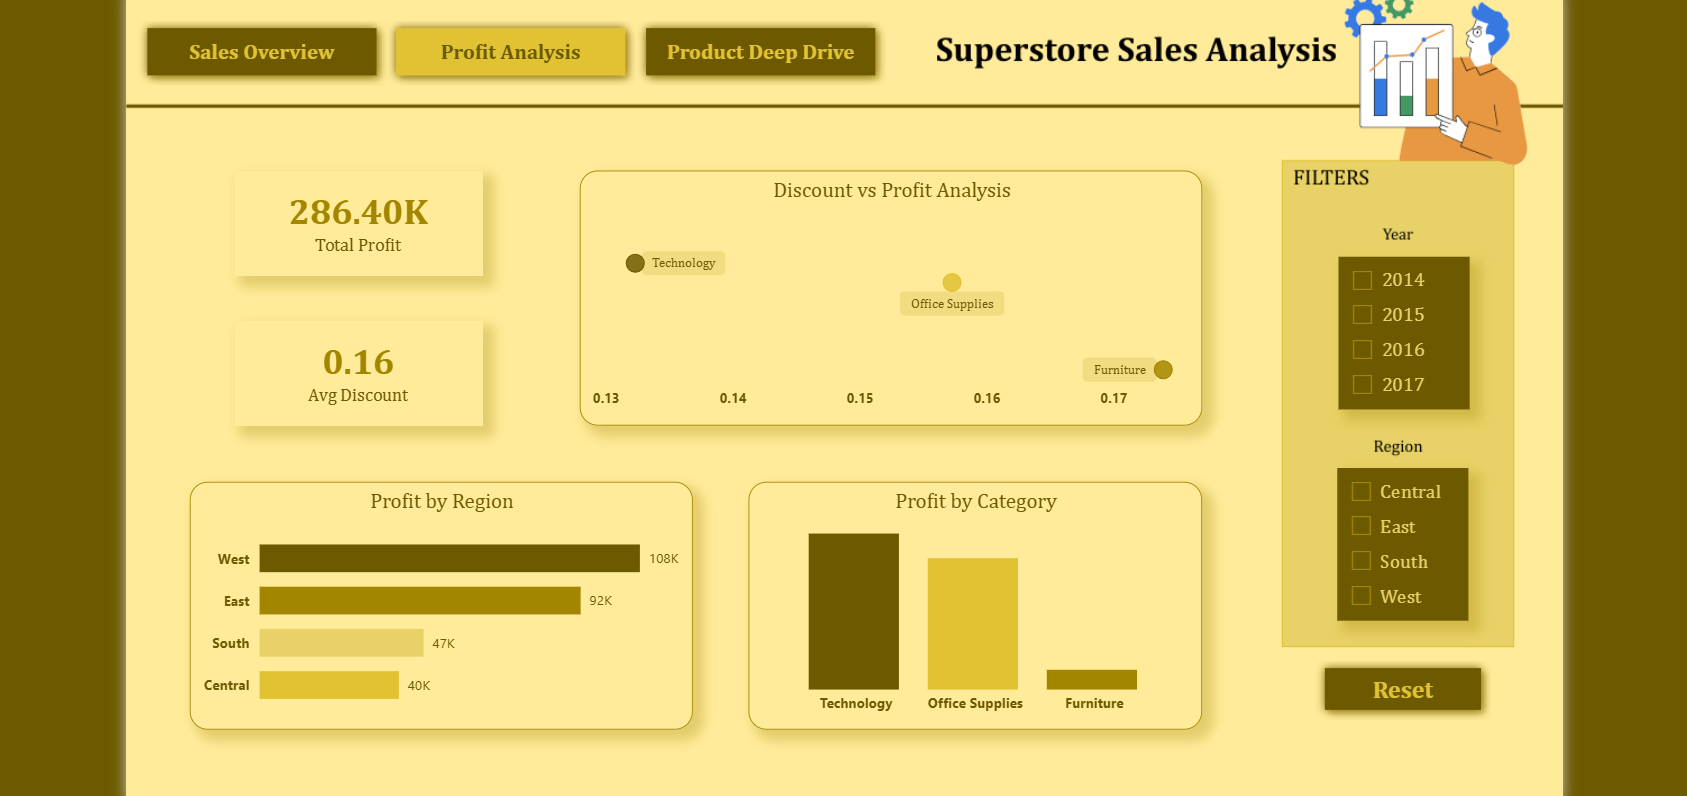

This screenshot's page, from the dashboard's own definition file:
{"tool":"powerbi","page":{"name":"Profit Analysis","canvas":[1280,720],"ordinal":1},"visuals":[{"type":"cardVisual","fields":{"Data":["Sum(superstore_clean.Profit)"]},"box":[96.9,158.3,220.9,93.3],"z":0},{"type":"clusteredColumnChart","title":"Profit by Category","fields":{"Category":["superstore_clean.Category"],"Y":["Sum(superstore_clean.Profit)"]},"box":[554.6,435.6,403.7,220.9],"z":1000},{"type":"clusteredBarChart","title":"Profit by Region","fields":{"Y":["Sum(superstore_clean.Profit)"],"Category":["superstore_clean.Region"]},"box":[56.4,435.6,447.9,220.9],"z":2000},{"type":"scatterChart","title":"Discount vs Profit Analysis","fields":{"Y":["Sum(superstore_clean.Profit)"],"X":["Avg(superstore_clean.Discount)"],"Category":["superstore_clean.Category"]},"box":[403.7,158.3,554.6,227],"z":3000},{"type":"cardVisual","fields":{"Data":["Avg(superstore_clean.Discount)"]},"box":[96.9,292,220.9,93.3],"z":4000},{"type":"actionButton","box":[9.8,22.1,222.1,60.1],"z":5000},{"type":"actionButton","box":[231.9,22.1,222.1,60.1],"z":6000},{"type":"actionButton","box":[454,22.1,222.1,60.1],"z":7000},{"type":"slicer","fields":{"Values":["superstore_clean.Year"]},"box":[1079.8,234.4,116.6,136.2],"z":8000},{"type":"slicer","fields":{"Values":["superstore_clean.Region"]},"box":[1078.5,423.3,116.6,136.2],"z":9000},{"type":"actionButton","box":[1058.9,592.6,157.1,55.2],"z":10000}]}

Visuals, with their boxes on the page's 1280x720 design canvas (x1, y1, x2, y2). These are canvas units, not pixel positions in the 1687x796 screenshot, which may show the page scaled, cropped or inside an application window:
cardVisual - Sum(superstore_clean.Profit): <bbox>97, 158, 318, 252</bbox>
"Profit by Category" clusteredColumnChart: <bbox>555, 436, 958, 656</bbox>
"Profit by Region" clusteredBarChart: <bbox>56, 436, 504, 656</bbox>
"Discount vs Profit Analysis" scatterChart: <bbox>404, 158, 958, 385</bbox>
cardVisual - Avg(superstore_clean.Discount): <bbox>97, 292, 318, 385</bbox>
actionButton: <bbox>10, 22, 232, 82</bbox>
actionButton: <bbox>232, 22, 454, 82</bbox>
actionButton: <bbox>454, 22, 676, 82</bbox>
slicer - superstore_clean.Year: <bbox>1080, 234, 1196, 371</bbox>
slicer - superstore_clean.Region: <bbox>1078, 423, 1195, 560</bbox>
actionButton: <bbox>1059, 593, 1216, 648</bbox>
